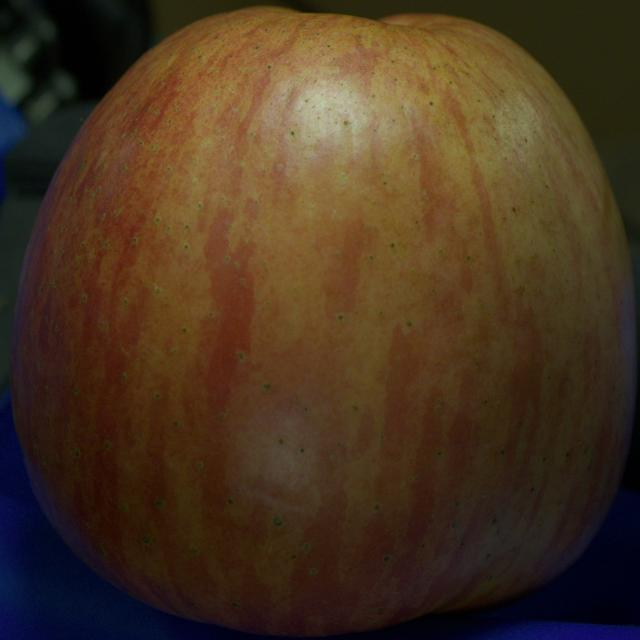apple: (10, 8, 636, 635)
